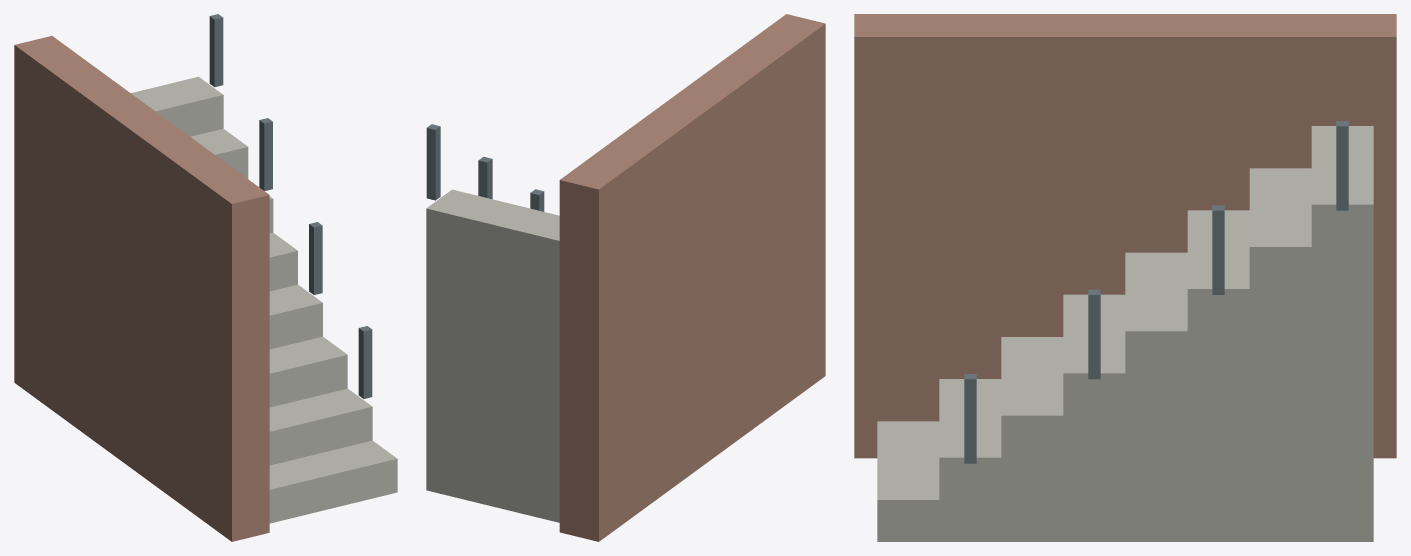
The model's file is three-d-zombie-quarantine-streets-zombie-quarantine-streets-stairwell-remnant-e3137598.glb.
3 views of the same model, side by side, from view 1: azimuth 30°, elevation 25°; view 2: azimuth 150°, elevation 25°; view 3: azimuth 270°, elevation 25° (orthographic). The views are drawn at different scales.
Parts seen in each view (by area): view 1: stairwell-remnant; view 2: stairwell-remnant; view 3: stairwell-remnant.
Boxes of the visible parts, box(x1,y1,x2,y2) form: stairwell-remnant: box(14, 14, 397, 541); stairwell-remnant: box(426, 14, 825, 541); stairwell-remnant: box(854, 14, 1396, 541).
Size of the model in its own units: 1.71 by 3 by 3.5.
